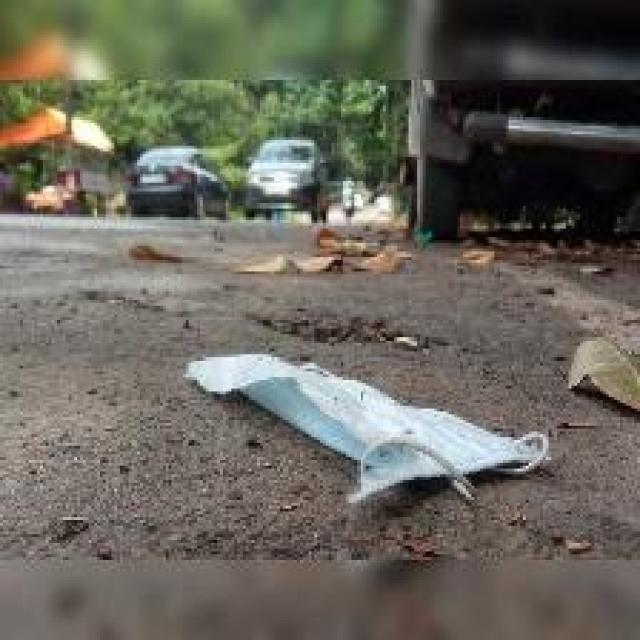Mask: (178, 322, 551, 555)
